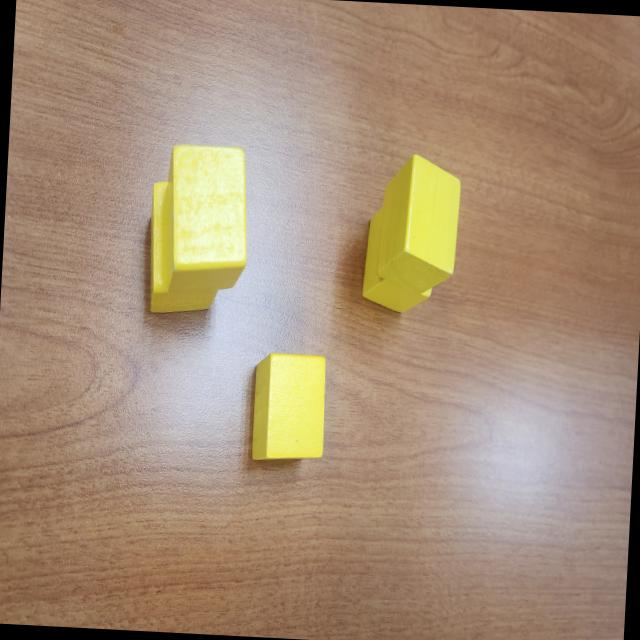yellow: (160, 142, 251, 298), (374, 153, 464, 296), (144, 180, 226, 318), (249, 352, 329, 463), (359, 205, 436, 316)
